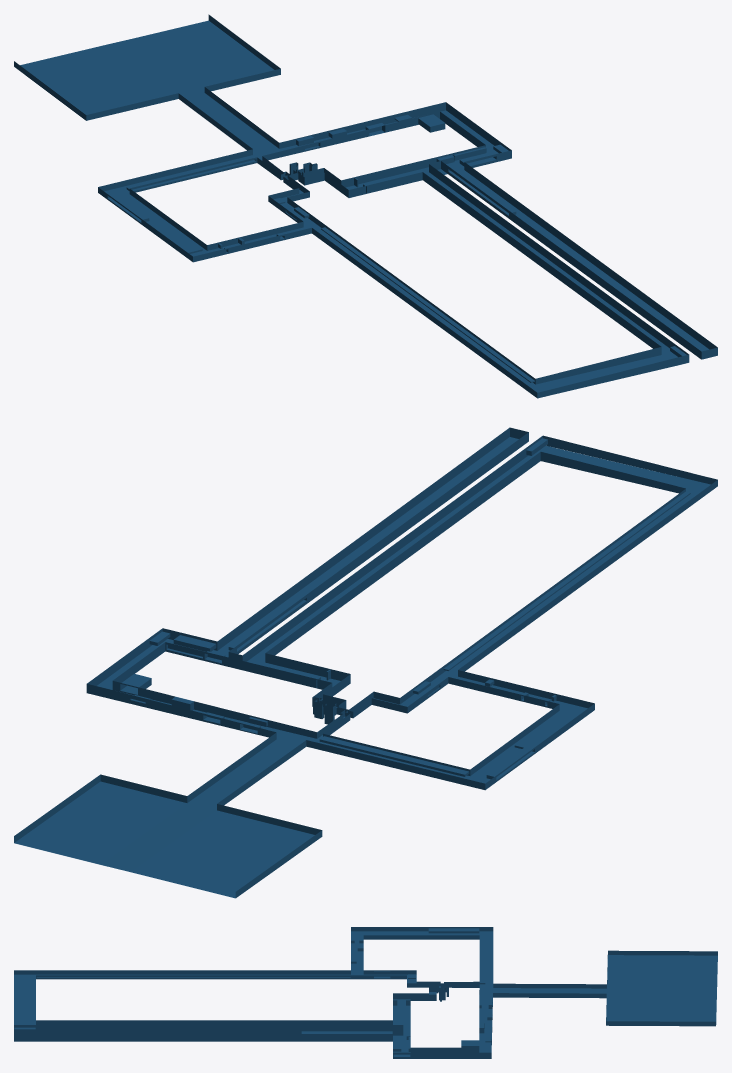
The model's file is bIG.ROOM.fbx.
The picture shows the model from 3 angles, top to bottom: view 1: azimuth 30°, elevation 25°; view 2: azimuth 150°, elevation 25°; view 3: azimuth 270°, elevation 25°; orthographic projection. The views are drawn at different scales.
Parts seen in each view (by area): view 1: Cube; view 2: Cube; view 3: Cube.
Boxes of the visible parts, bbox=[...] form: Cube: bbox=[14, 14, 717, 398]; Cube: bbox=[14, 427, 717, 898]; Cube: bbox=[14, 927, 717, 1058].
Size of the model in its own units: 6243 by 279 by 14684.
